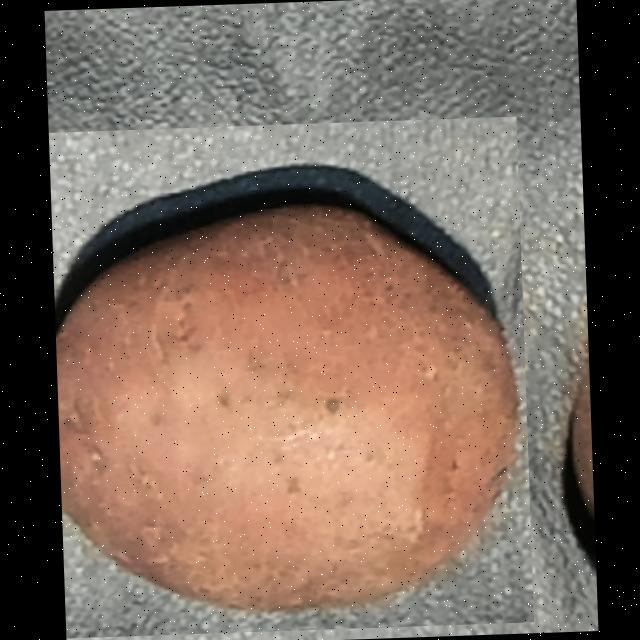Diseased-fungal potato: (48, 115, 532, 637)
